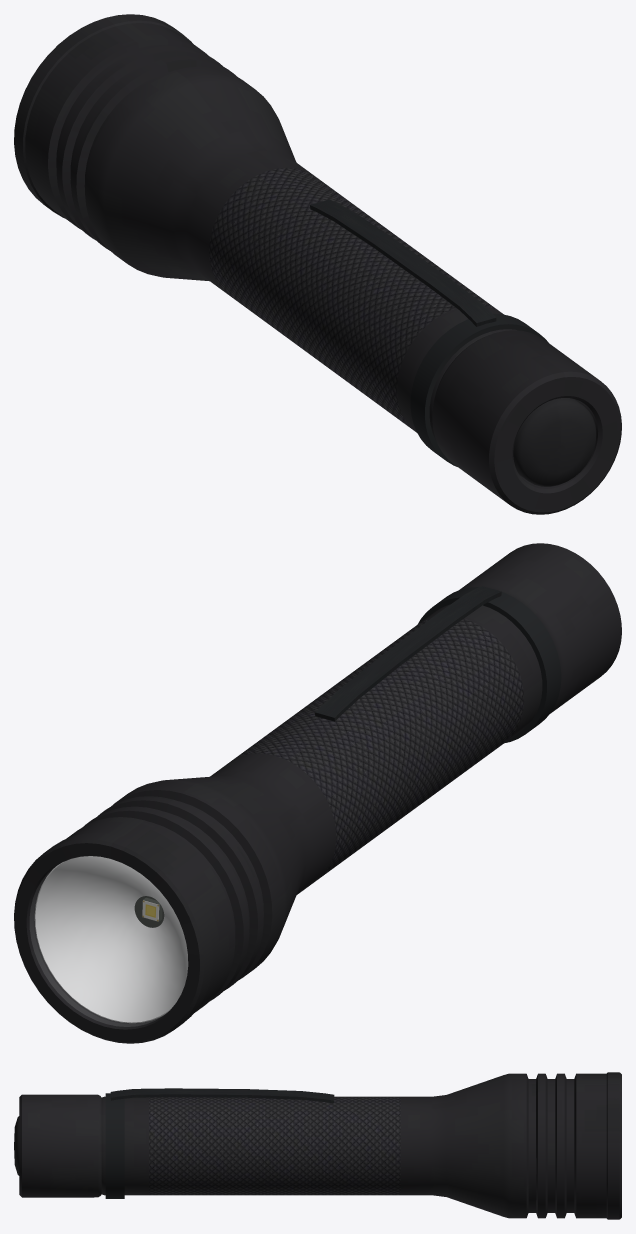
Rendered from flashlight.glb.
3 views of the same model, one above another, from view 1: azimuth 30°, elevation 25°; view 2: azimuth 150°, elevation 25°; view 3: azimuth 270°, elevation 25° (orthographic). The views are drawn at different scales.
Visible parts, largest first — view 1: Flashlight body (black anodised aluminium), Clip clamp ring, Tail switch boot (rubber); view 2: Flashlight body (black anodised aluminium), Front lens, Smooth reflector (polished), Clip clamp ring; view 3: Flashlight body (black anodised aluminium), Clip clamp ring, Tail switch boot (rubber).
Boxes of the visible parts, <box> form: Flashlight body (black anodised aluminium): <box>14,14,621,514</box>; Clip clamp ring: <box>310,199,548,466</box>; Tail switch boot (rubber): <box>513,398,596,486</box>; Flashlight body (black anodised aluminium): <box>14,543,621,1043</box>; Front lens: <box>30,856,187,1026</box>; Smooth reflector (polished): <box>34,856,188,1023</box>; Clip clamp ring: <box>315,586,561,743</box>; Flashlight body (black anodised aluminium): <box>19,1072,621,1219</box>; Clip clamp ring: <box>105,1088,334,1198</box>; Tail switch boot (rubber): <box>14,1116,19,1175</box>.
Bounding box in the file's own units: 0.0386 × 0.0386 × 0.1594.
8 materials, 5 textured.
